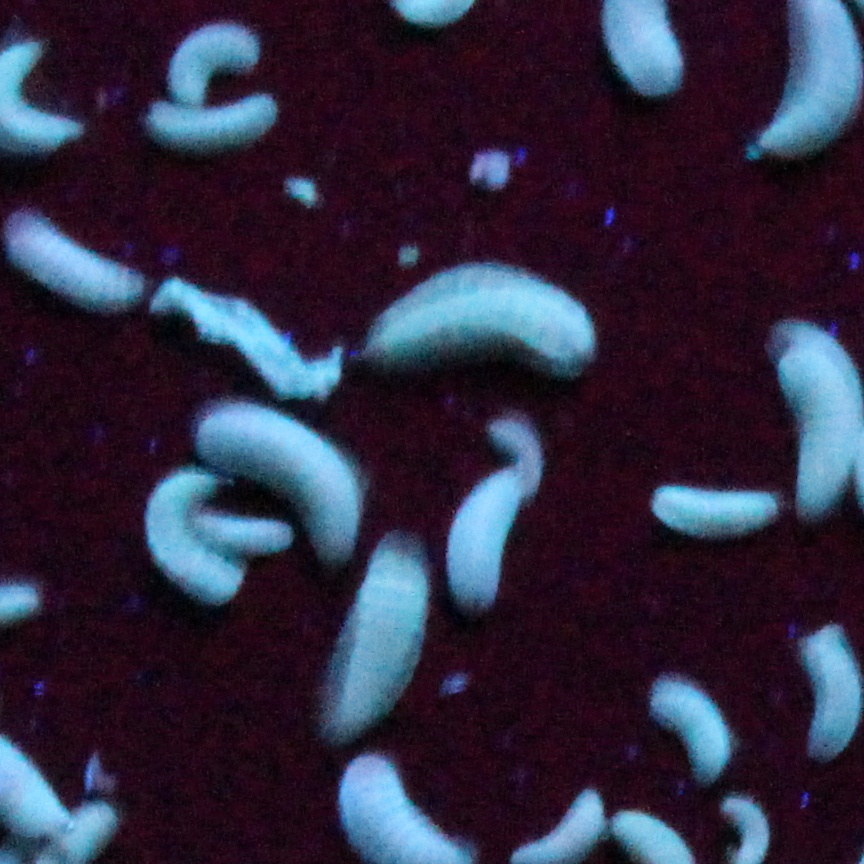larve: (206, 394, 366, 558), (358, 265, 599, 367), (319, 531, 433, 739), (768, 329, 862, 519), (6, 206, 149, 310), (143, 467, 229, 610), (645, 681, 739, 779), (454, 471, 518, 606), (166, 23, 260, 106), (808, 625, 862, 758), (654, 483, 779, 533), (149, 102, 276, 146), (183, 510, 299, 554)
